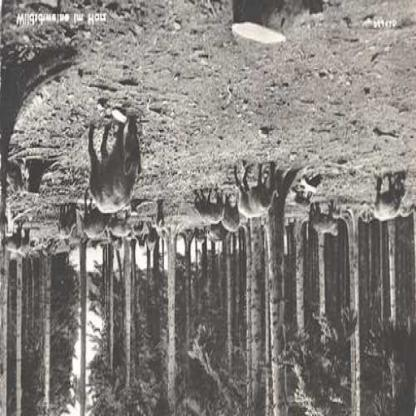boar: (77, 107, 172, 229), (234, 157, 289, 220), (368, 173, 415, 239), (315, 193, 346, 240), (196, 194, 221, 228), (223, 210, 240, 245)
